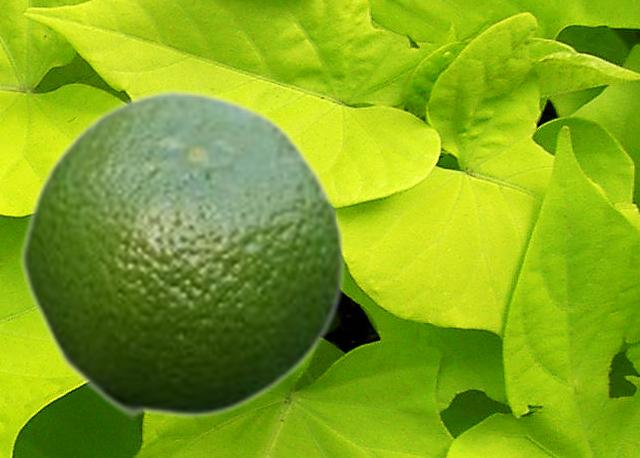calamansi: (18, 86, 346, 418)
